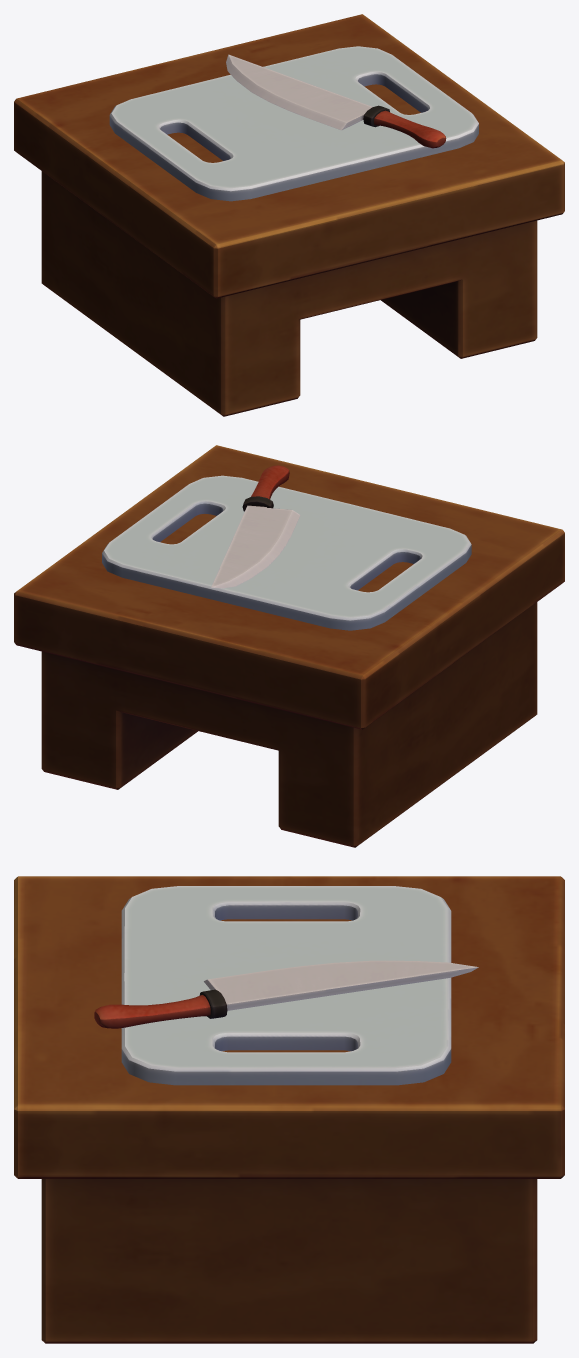
Rendered from CutStation.obj.
3 views of the same model, one above another, from view 1: azimuth 30°, elevation 25°; view 2: azimuth 150°, elevation 25°; view 3: azimuth 270°, elevation 25° (orthographic). The views are drawn at different scales.
Visible parts, largest first — view 1: Kitchen_Cabin.003, Cutting_Board, Knife; view 2: Kitchen_Cabin.003, Cutting_Board, Knife; view 3: Kitchen_Cabin.003, Cutting_Board, Knife.
Part boxes in pixels (bbox=[...]): Kitchen_Cabin.003: bbox=[14, 14, 564, 416]; Cutting_Board: bbox=[109, 46, 478, 201]; Knife: bbox=[226, 54, 446, 148]; Kitchen_Cabin.003: bbox=[14, 445, 564, 847]; Cutting_Board: bbox=[102, 475, 471, 630]; Knife: bbox=[211, 465, 300, 588]; Kitchen_Cabin.003: bbox=[14, 876, 564, 1343]; Cutting_Board: bbox=[121, 886, 451, 1085]; Knife: bbox=[94, 960, 478, 1028].
Size of the model in its own units: 2 by 1.15 by 2.
Materials: 2 (2 with a texture image).
